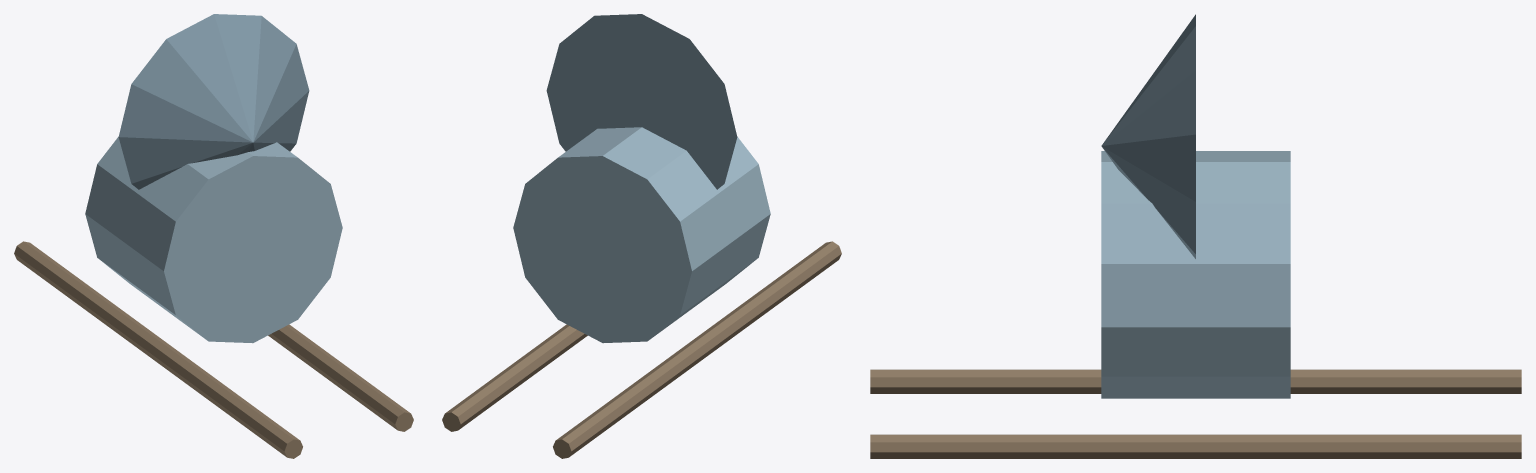
Rendered from water_tower.glb.
3 views of the same model, side by side, from view 1: azimuth 30°, elevation 25°; view 2: azimuth 150°, elevation 25°; view 3: azimuth 270°, elevation 25° (orthographic). The views are drawn at different scales.
Visible parts, largest first — view 1: water_tower_0, water_tower_1, water_tower_3, water_tower_2, water_tower_5, water_tower_4; view 2: water_tower_0, water_tower_1, water_tower_2, water_tower_4, water_tower_3, water_tower_5; view 3: water_tower_0, water_tower_4, water_tower_1, water_tower_5, water_tower_2, water_tower_3.
Boxes of the visible parts, <box> form: water_tower_0: <box>85,137,342,343</box>; water_tower_1: <box>118,14,309,189</box>; water_tower_3: <box>78,288,302,458</box>; water_tower_2: <box>14,241,235,403</box>; water_tower_5: <box>268,325,413,431</box>; water_tower_4: <box>270,324,346,377</box>; water_tower_0: <box>513,127,770,343</box>; water_tower_1: <box>546,14,737,189</box>; water_tower_2: <box>553,288,777,458</box>; water_tower_4: <box>442,325,587,431</box>; water_tower_3: <box>620,241,841,395</box>; water_tower_5: <box>509,324,586,381</box>; water_tower_0: <box>1101,151,1290,398</box>; water_tower_4: <box>1024,434,1521,458</box>; water_tower_1: <box>1101,14,1195,258</box>; water_tower_5: <box>870,434,1367,458</box>; water_tower_2: <box>1024,369,1521,393</box>; water_tower_3: <box>870,369,1367,393</box>.
Bounding box in the file's own units: 2.24 × 3.73 × 5.5.
